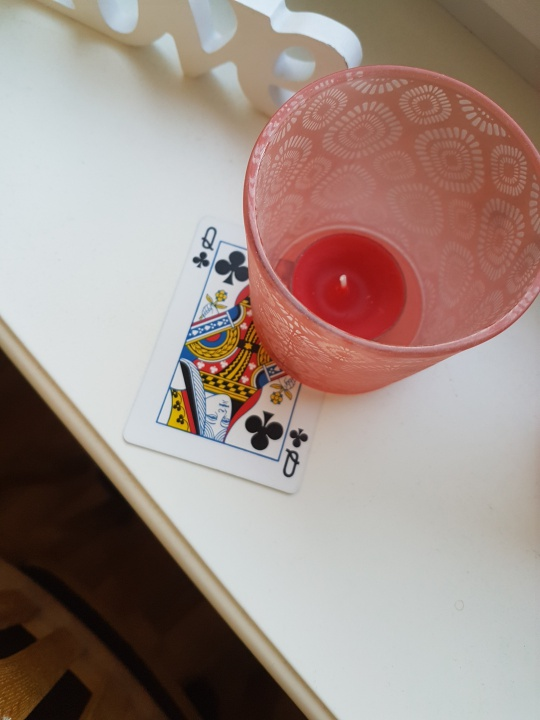queen: (120, 221, 331, 499)
